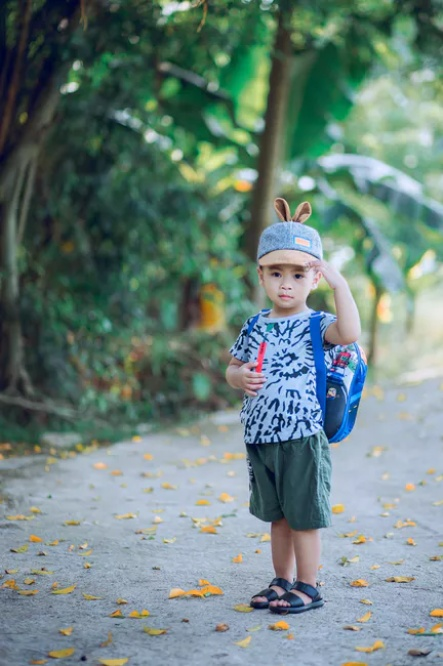face: (265, 263, 311, 307)
